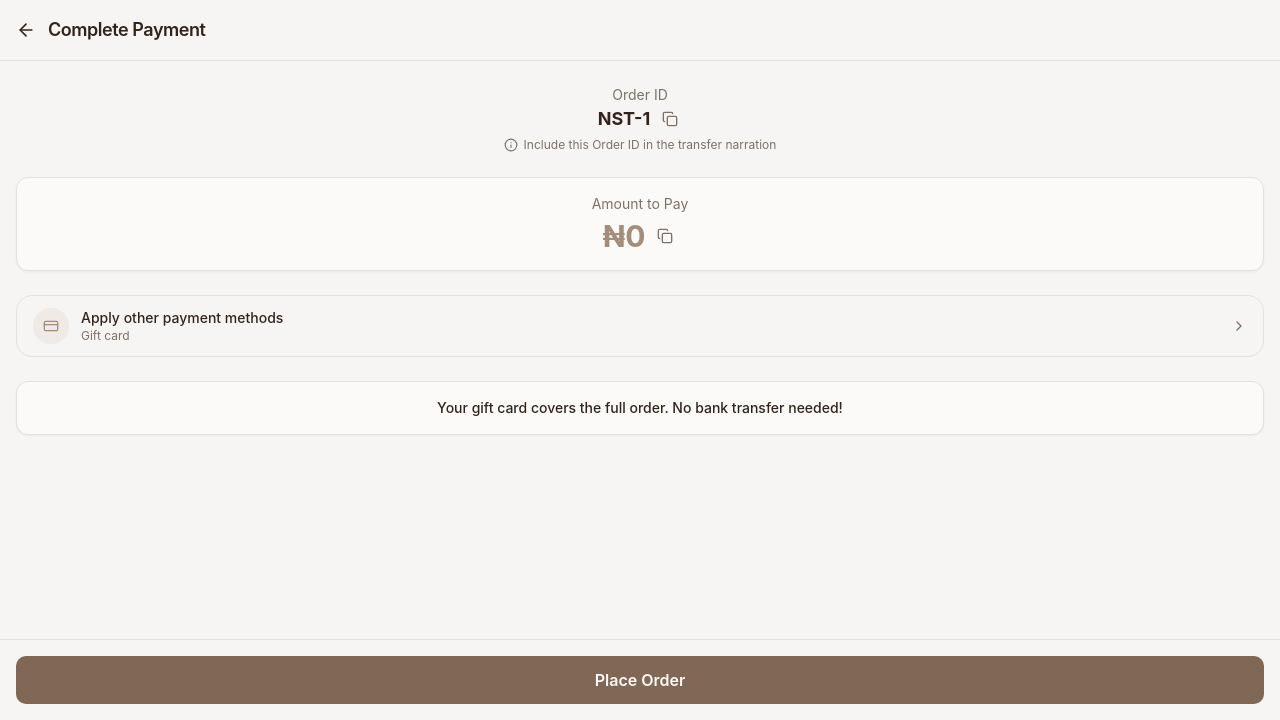
mobile payment view, order covered in full › stays put and says why when the server refuses, so the buyer can try again
The image size is (1280, 720).
Step 1. Click the button "Place Order" → (640, 680), box x1=16 y1=656 x2=1264 y2=704
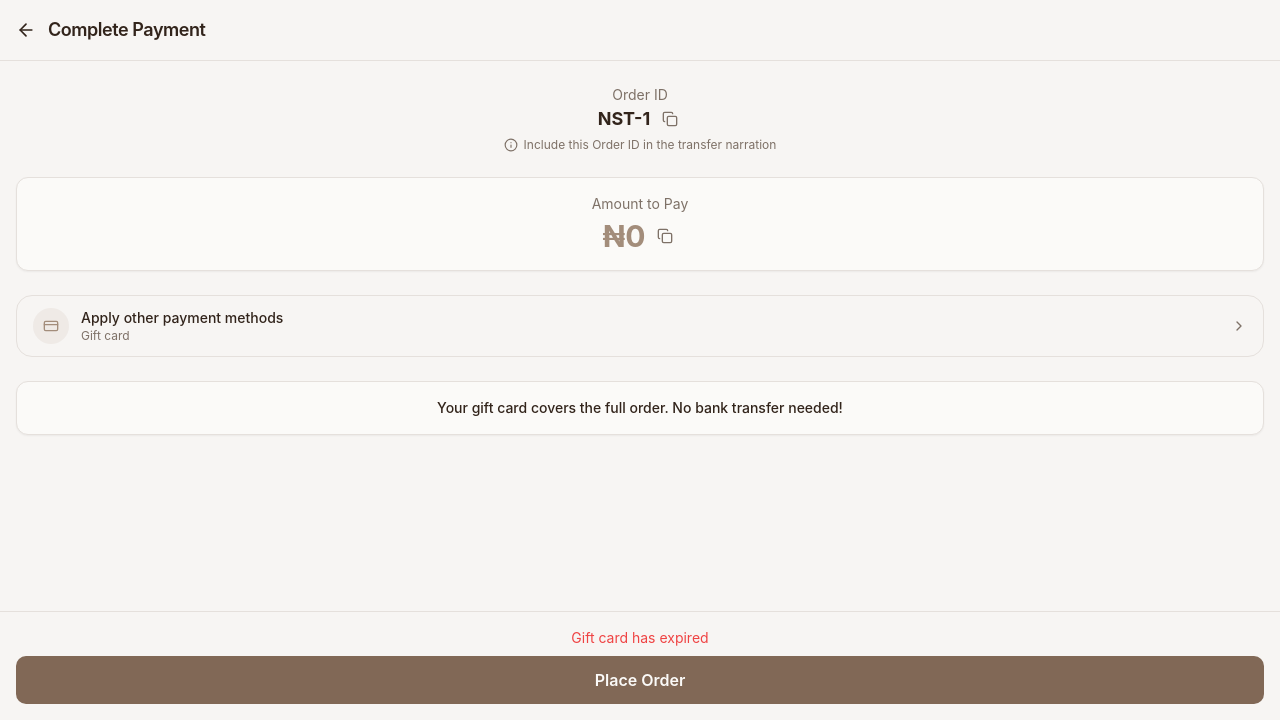
Result: the text "Gift card has expired" is shown at x1=571 y1=629 x2=709 y2=646
